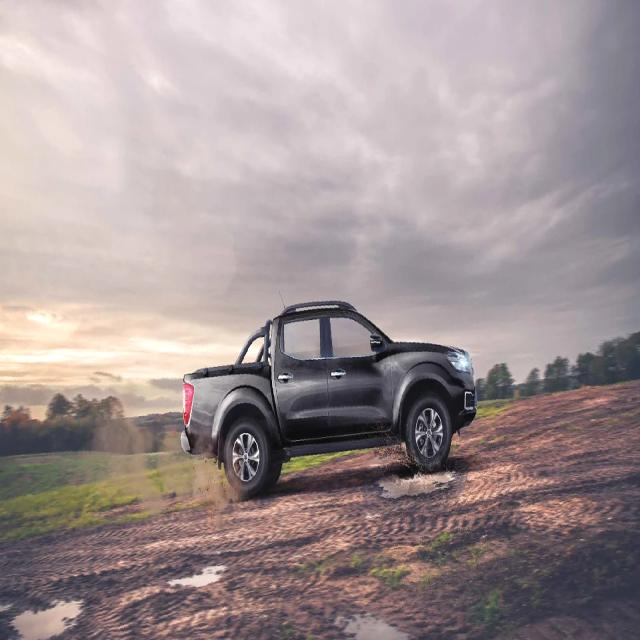CMT: (185, 304, 482, 509)
